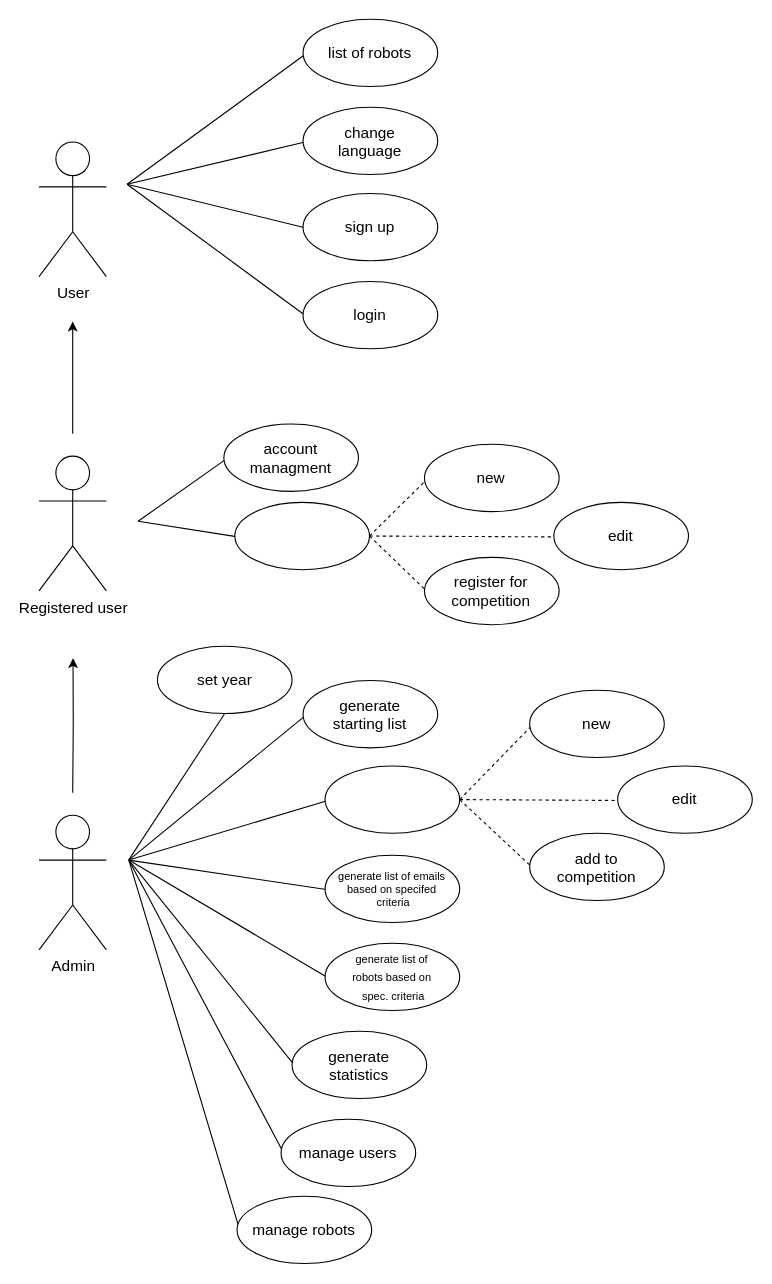
Image size: 772x1284. Some labels were removed from this diagram. Each missing label, with the centre of its shape:
categories managment: point 392,799
robot managment: point 301,535
